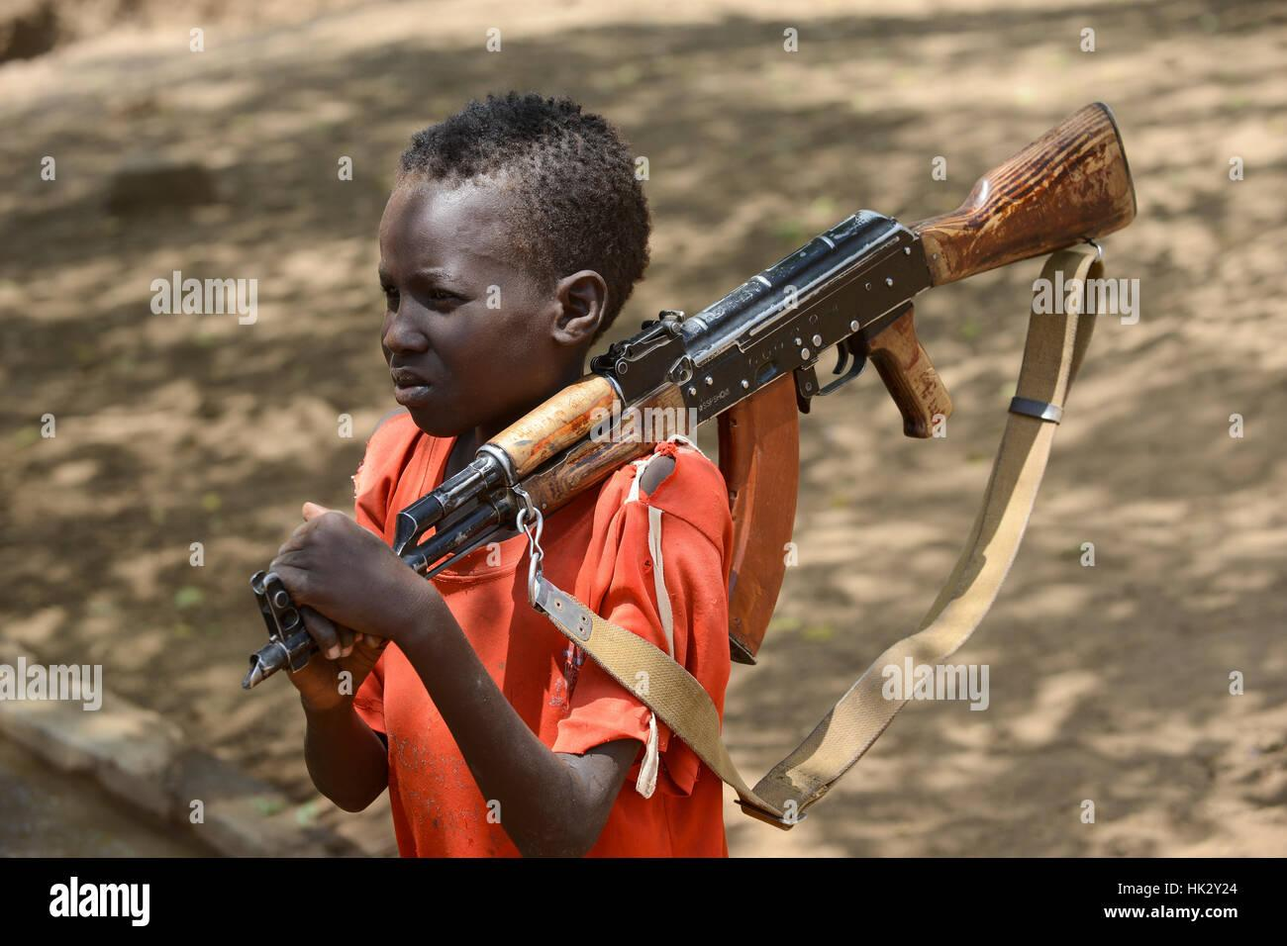larga: (238, 98, 1142, 691)
